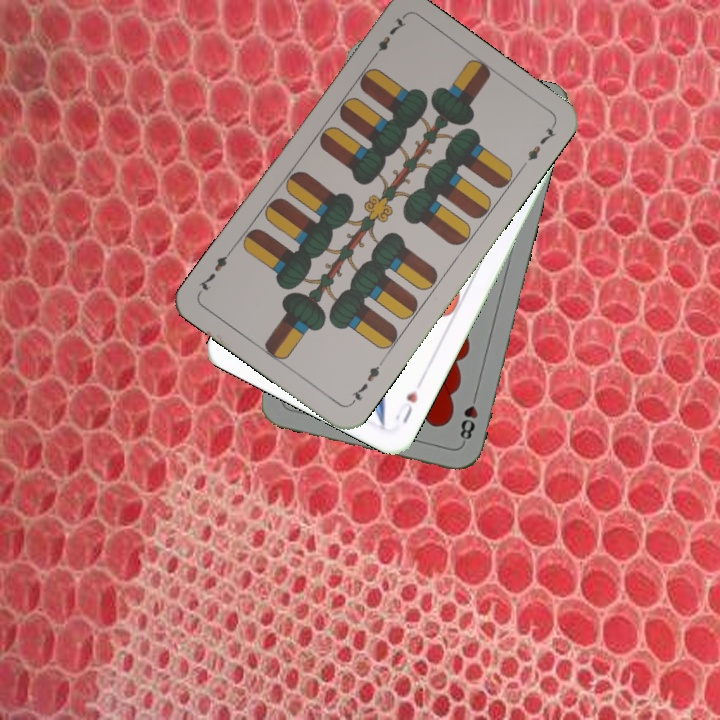E7: (366, 12, 409, 64), (346, 357, 387, 408)
H8: (455, 388, 481, 446)
HU: (391, 386, 421, 426)
